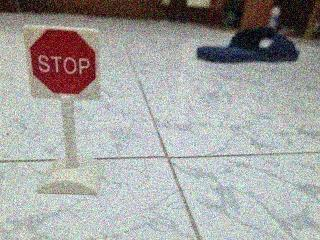stop: (21, 19, 109, 109)
